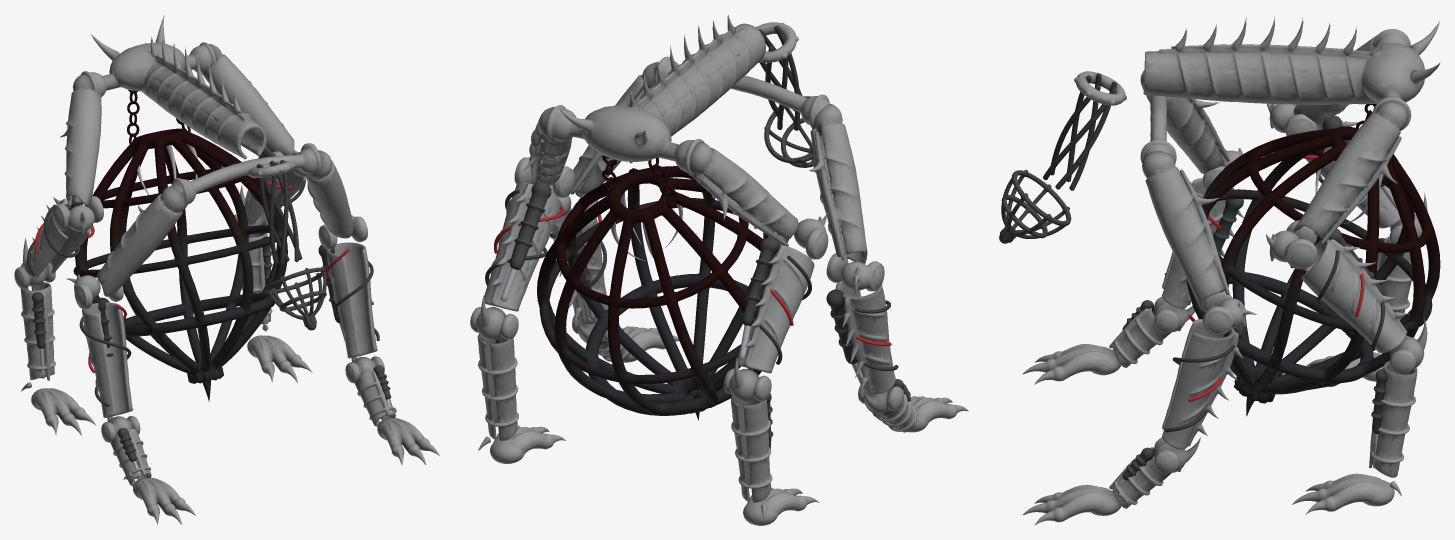
Rendered from gibbet-parts.glb.
3 renders of one model, left to right at view 1: azimuth 30°, elevation 25°; view 2: azimuth 150°, elevation 25°; view 3: azimuth 270°, elevation 25°, orthographic. The views are drawn at different scales.
Parts seen in each view (by area): view 1: hem|cage, spine|beam, forearm.l|tibia, thigh.r|carapace, upperarm.r|carapace, forearm.r|tibia, thigh.l|carapace, upperarm.l|carapace, foot.r|cannon, neck|cables, skull|muzzle, shin.r|tibia (+16 smaller); view 2: hem|cage, spine|beam, upperarm.r|carapace, thigh.r|carapace, shin.r|tibia, shin.l|tibia, forearm.r|tibia, foot.r|cannon, foot.l|cannon, upperarm.l|carapace, thigh.l|carapace, foot.l|toes (+17 smaller); view 3: hem|cage, spine|beam, upperarm.l|carapace, thigh.l|carapace, shin.l|tibia, forearm.l|tibia, foot.l|cannon, upperarm.r|carapace, skull|muzzle, foot.l|toes, neck|cables, hand.l|toes (+17 smaller).
Boxes of the visible parts, x1,y1,x2,y2 form: hem|cage: [73, 90, 288, 401]; spine|beam: [81, 15, 321, 205]; forearm.l|tibia: [326, 242, 377, 358]; thigh.r|carapace: [59, 74, 101, 206]; upperarm.r|carapace: [97, 185, 187, 296]; forearm.r|tibia: [82, 302, 133, 417]; thigh.l|carapace: [202, 44, 294, 155]; upperarm.l|carapace: [305, 150, 353, 238]; foot.r|cannon: [20, 282, 55, 380]; neck|cables: [256, 160, 302, 264]; skull|muzzle: [265, 266, 326, 330]; shin.r|tibia: [24, 197, 91, 278]; hem|cage: [537, 155, 767, 420]; spine|beam: [546, 14, 829, 176]; upperarm.r|carapace: [809, 103, 867, 263]; thigh.r|carapace: [689, 142, 798, 246]; shin.r|tibia: [737, 245, 814, 373]; shin.l|tibia: [484, 183, 561, 311]; forearm.r|tibia: [835, 281, 895, 394]; foot.r|cannon: [731, 395, 772, 502]; foot.l|cannon: [477, 333, 518, 440]; upperarm.l|carapace: [570, 62, 658, 196]; thigh.l|carapace: [523, 107, 571, 185]; foot.l|toes: [478, 425, 565, 463]; hem|cage: [1186, 104, 1440, 416]; spine|beam: [1140, 16, 1440, 163]; upperarm.l|carapace: [1142, 151, 1229, 310]; thigh.l|carapace: [1293, 101, 1408, 244]; shin.l|tibia: [1301, 239, 1409, 353]; forearm.l|tibia: [1162, 319, 1244, 449]; foot.l|cannon: [1369, 361, 1417, 477]; upperarm.r|carapace: [1142, 88, 1229, 173]; skull|muzzle: [999, 170, 1071, 243]; foot.l|toes: [1292, 473, 1401, 514]; neck|cables: [1043, 73, 1116, 190]; hand.l|toes: [1023, 484, 1128, 525].
Bounding box in the file's own units: 1.04 × 1.26 × 1.17.
